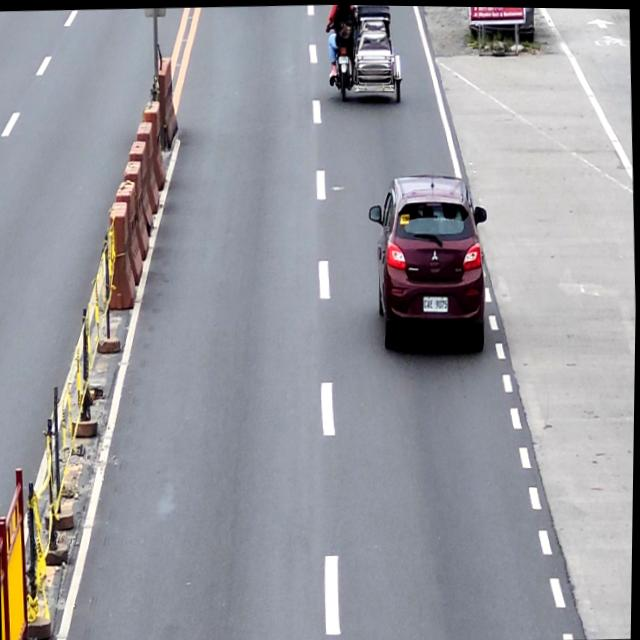Car: (366, 169, 493, 353)
License-Plate: (424, 293, 449, 311), (338, 54, 349, 63)
Tricycle: (329, 4, 404, 105)
